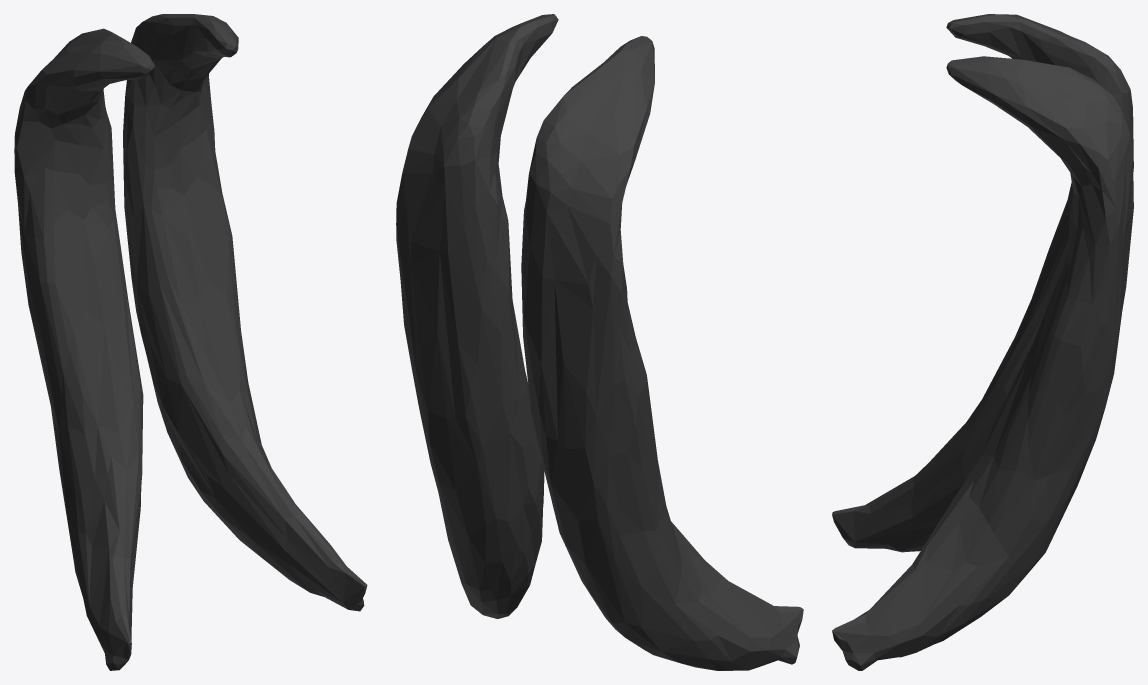
Rendered from m_semimembranosus.glb.
3 renders of one model, left to right at view 1: azimuth 30°, elevation 25°; view 2: azimuth 150°, elevation 25°; view 3: azimuth 270°, elevation 25°, orthographic. The views are drawn at different scales.
Parts seen in each view (by area): view 1: m_semimembranosus; view 2: m_semimembranosus; view 3: m_semimembranosus.
Boxes of the visible parts, <box> form: m_semimembranosus: <box>14,14,367,670</box>; m_semimembranosus: <box>396,14,803,670</box>; m_semimembranosus: <box>832,14,1133,670</box>.
Bounding box in the file's own units: 0.0041 × 0.00859 × 0.0041.
1 material, 1 textured.
